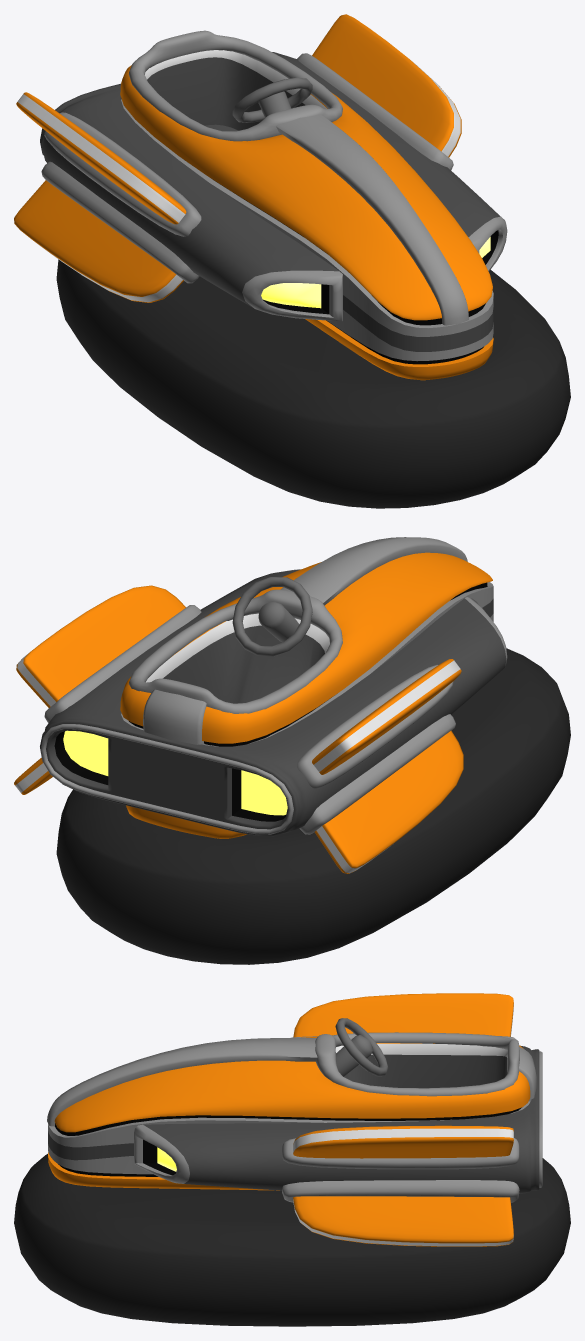
The model's file is mesh_Car_Menu_N.fbx.
The picture shows the model from 3 angles, top to bottom: view 1: azimuth 30°, elevation 25°; view 2: azimuth 150°, elevation 25°; view 3: azimuth 270°, elevation 25°; orthographic projection. The views are drawn at different scales.
Visible parts, largest first — view 1: mesh_Car_Menu_N; view 2: mesh_Car_Menu_N; view 3: mesh_Car_Menu_N.
Part boxes in pixels (x1=…): mesh_Car_Menu_N: x1=14, y1=14, x2=570, y2=508; mesh_Car_Menu_N: x1=14, y1=537, x2=570, y2=964; mesh_Car_Menu_N: x1=14, y1=993, x2=570, y2=1326.
Size of the model in its own units: 1.81 by 1.5 by 2.97.
